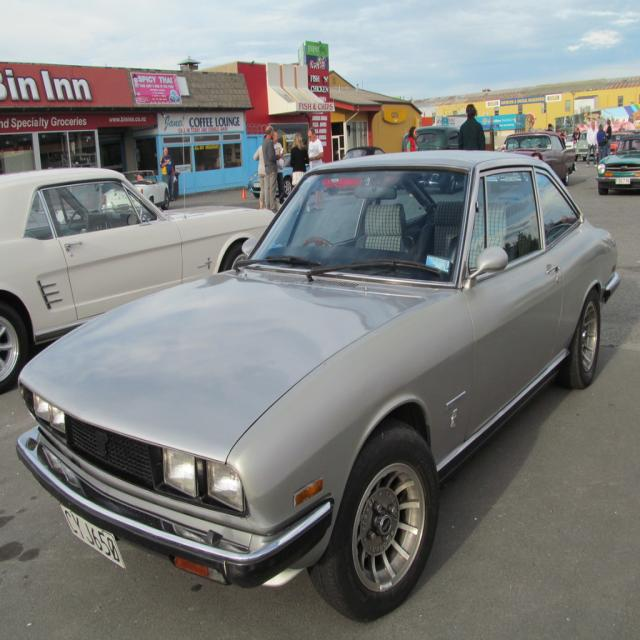car: (9, 152, 603, 606)
